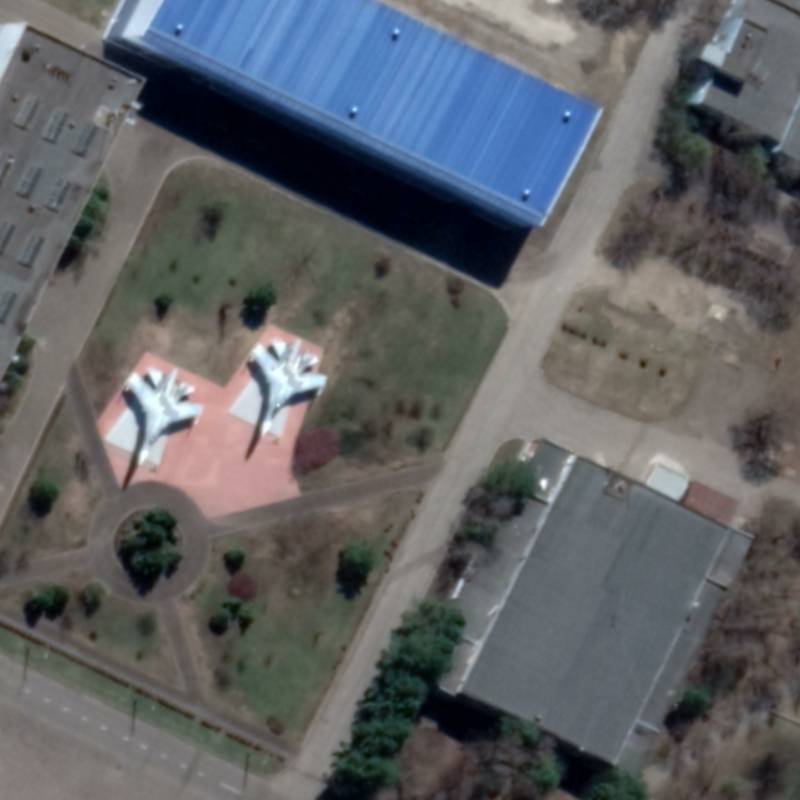A1: (117, 363, 207, 490), (243, 335, 331, 464)
